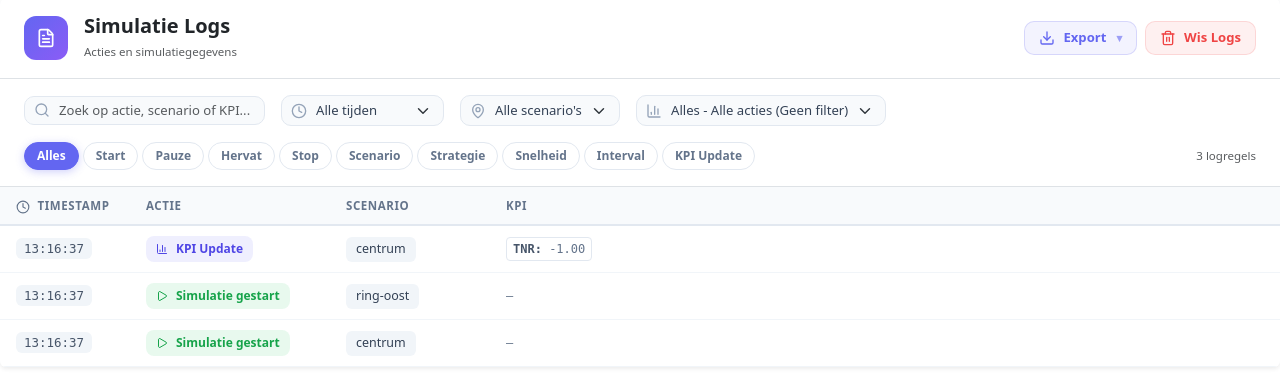
Test: LogsViewer.vue › filters logs by scenario
Select "ring-oost" in the dropdown named "Filter op scenario": coordinates (540, 110) [460,95,620,126]
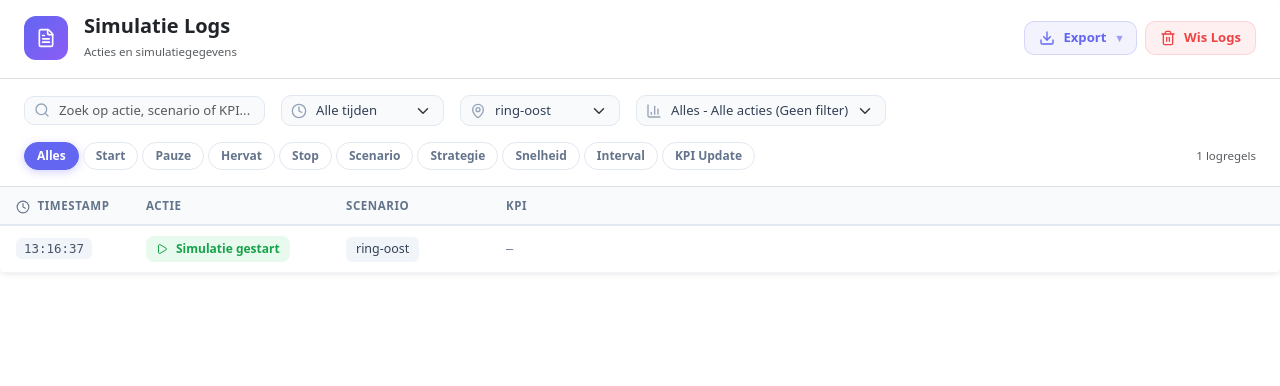
Expected: the text "ring-oost" is shown, [346,237,419,262]
Expected: the number of rows with class "log-row" is 1, [0,225,1279,273]
